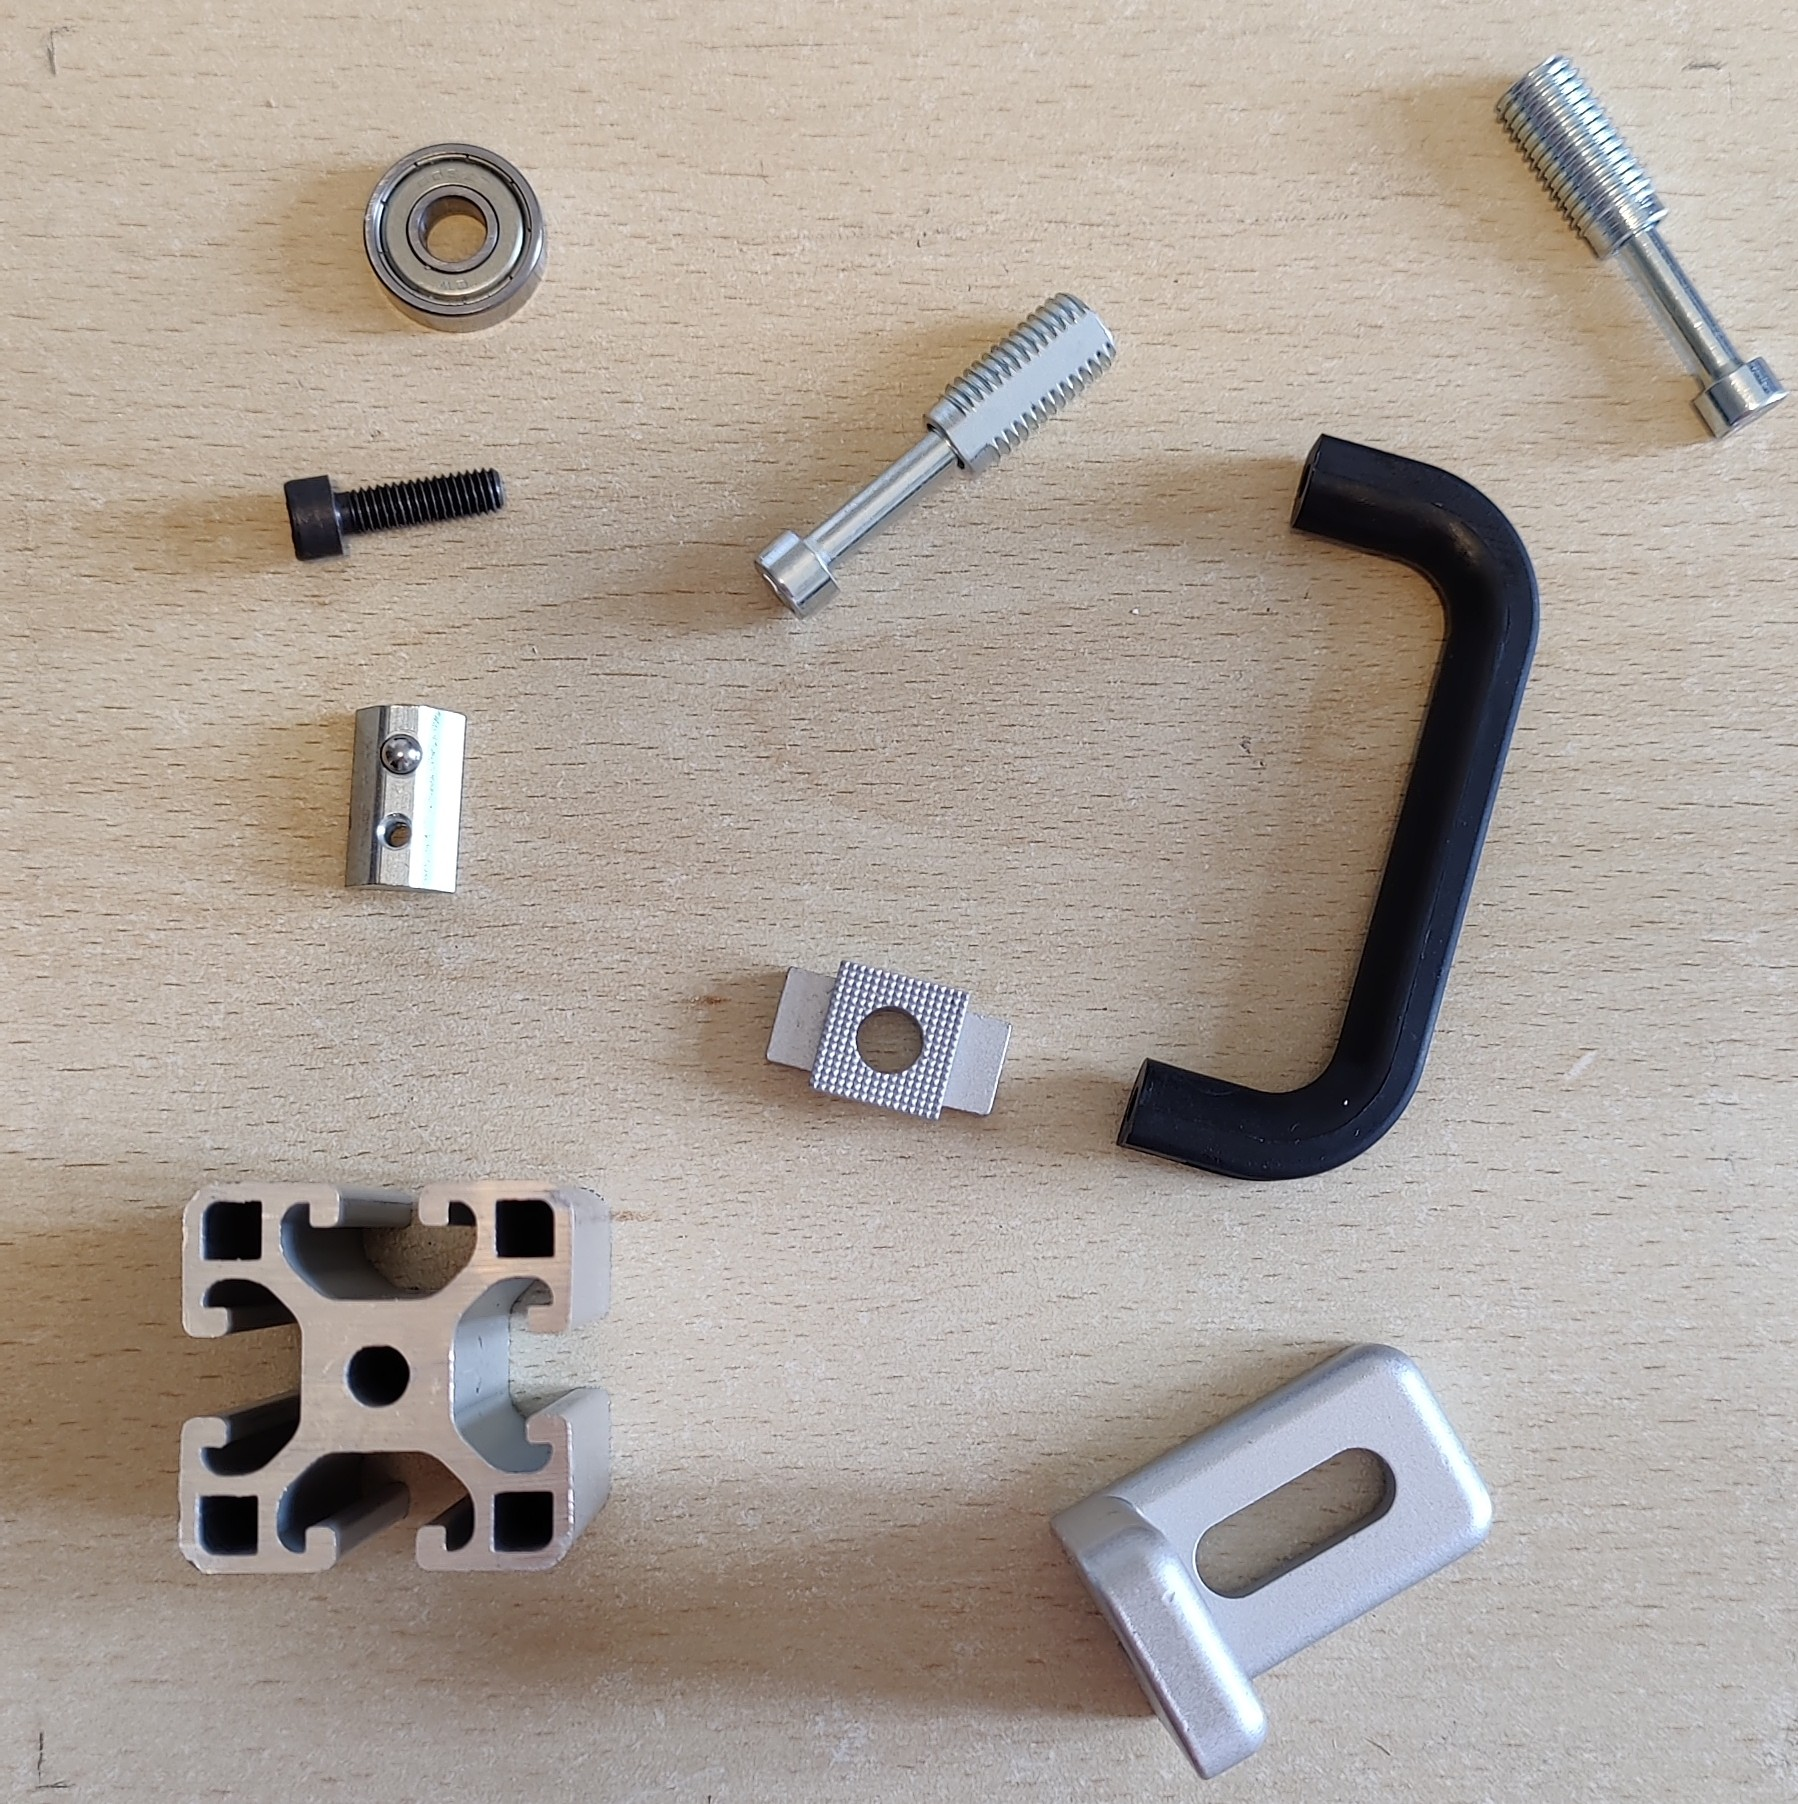Aluminium Extension: (173, 1170, 619, 1582)
Ball Bearing: (361, 137, 552, 337)
Multiwinkel: (1047, 1340, 1495, 1784)
Pull Handle: (1113, 430, 1544, 1183)
Shoulder Socket Head Cap Screw: (751, 286, 1121, 625), (1488, 48, 1793, 449)
Socket Head Cap Screw: (282, 459, 509, 566)
T Nut Square: (759, 956, 1018, 1124)
T Spring Nut: (339, 700, 469, 899)
